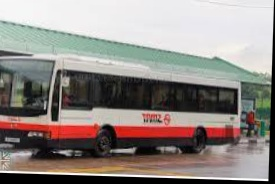bus: (0, 50, 246, 160)
